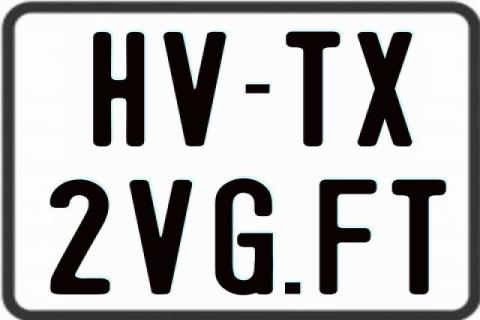0: (47, 179, 111, 295)
F: (318, 180, 378, 298)
G: (215, 176, 279, 293)
H: (91, 31, 147, 151)
T: (285, 31, 345, 147), (390, 180, 444, 296)
V: (128, 179, 196, 296), (163, 32, 230, 146)
X: (355, 30, 413, 148)
